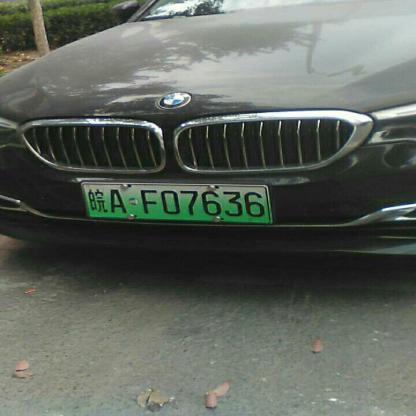lp: (81, 184, 270, 222)
